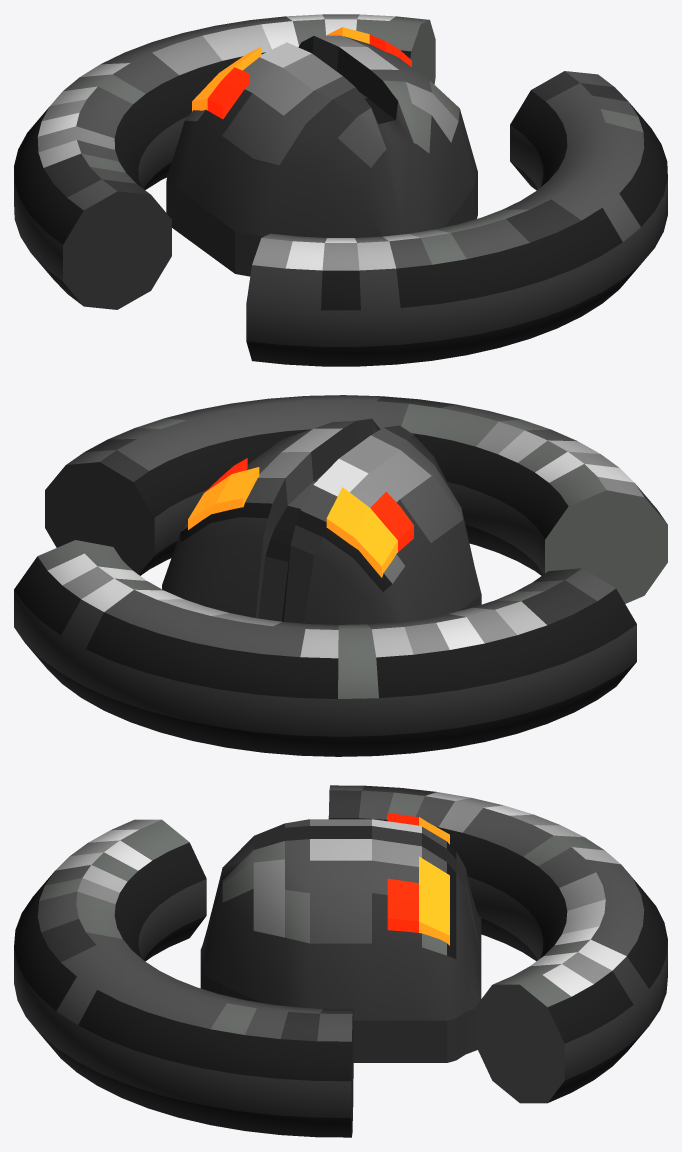
File: newsh2-229-f4.glb
The picture shows the model from 3 angles, top to bottom: view 1: azimuth 30°, elevation 25°; view 2: azimuth 150°, elevation 25°; view 3: azimuth 270°, elevation 25°; orthographic projection. The views are drawn at different scales.
Visible parts, largest first — view 1: newsh2-229-f4; view 2: newsh2-229-f4; view 3: newsh2-229-f4.
Part boxes in pixels (left/top/right/bottom): newsh2-229-f4: left=14, top=14, right=667, bottom=366; newsh2-229-f4: left=14, top=395, right=667, bottom=756; newsh2-229-f4: left=14, top=785, right=667, bottom=1137.
Bounding box in the file's own units: 1.75 × 0.5555 × 1.75.
